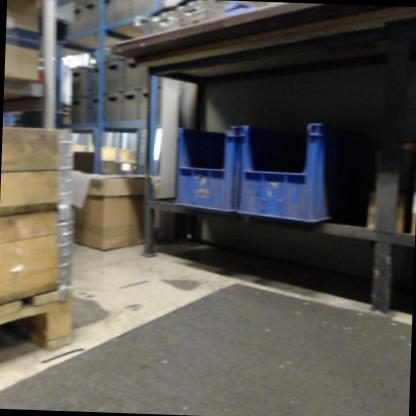pallet: (0, 280, 78, 369)
small_load_carrier: (232, 115, 365, 229), (173, 121, 235, 219)
